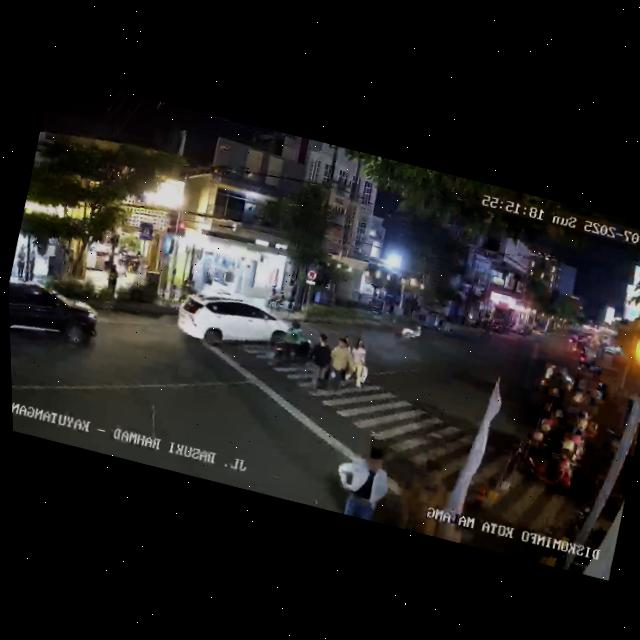car: (170, 283, 290, 366), (8, 277, 104, 365)
motorcycle: (265, 314, 321, 374), (394, 315, 427, 349), (533, 363, 557, 398), (574, 346, 591, 371)
person: (334, 436, 405, 524), (395, 455, 451, 537), (320, 333, 356, 397), (301, 328, 336, 392), (345, 337, 375, 394), (104, 262, 122, 296), (24, 249, 40, 280), (13, 250, 29, 277)
